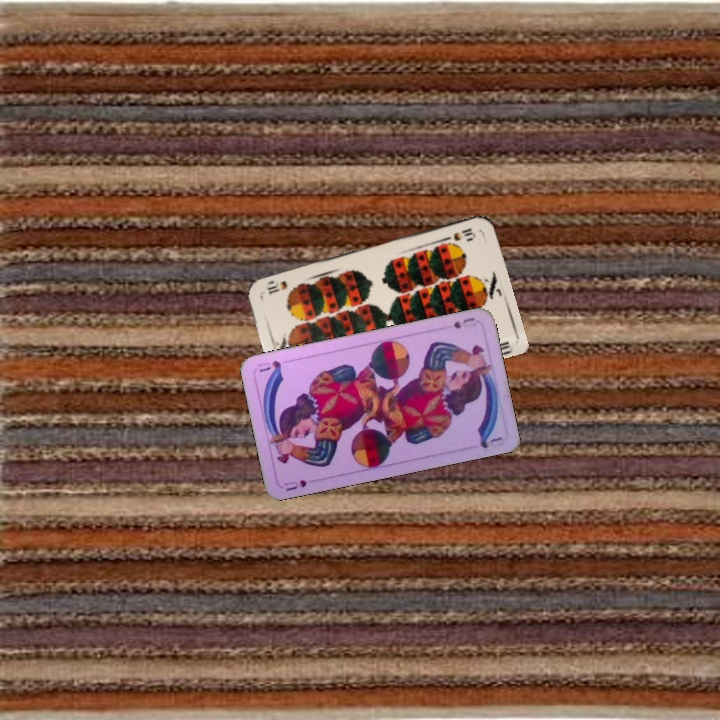S10: (440, 224, 478, 244)
SU: (448, 313, 479, 331), (281, 476, 309, 494)
